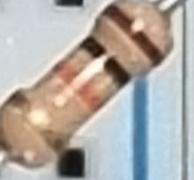Black: (79, 34, 133, 90)
Brown: (102, 2, 166, 68)
Orange: (50, 56, 108, 116)
Side-Silver: (6, 88, 70, 154)
